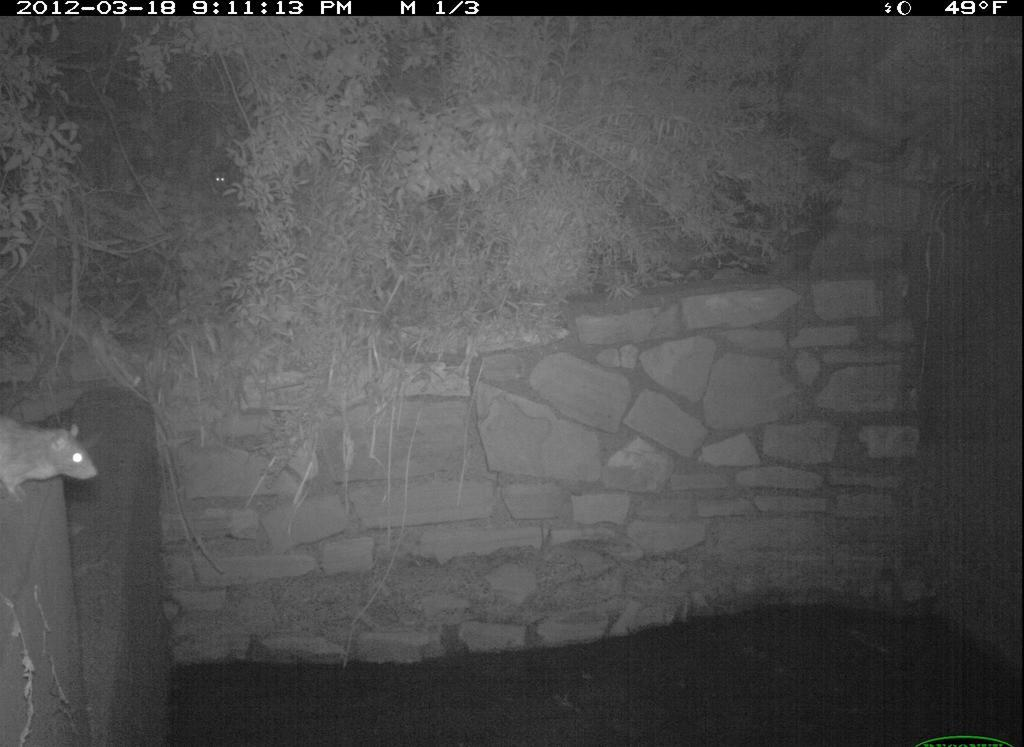rodent: (1, 405, 109, 503)
